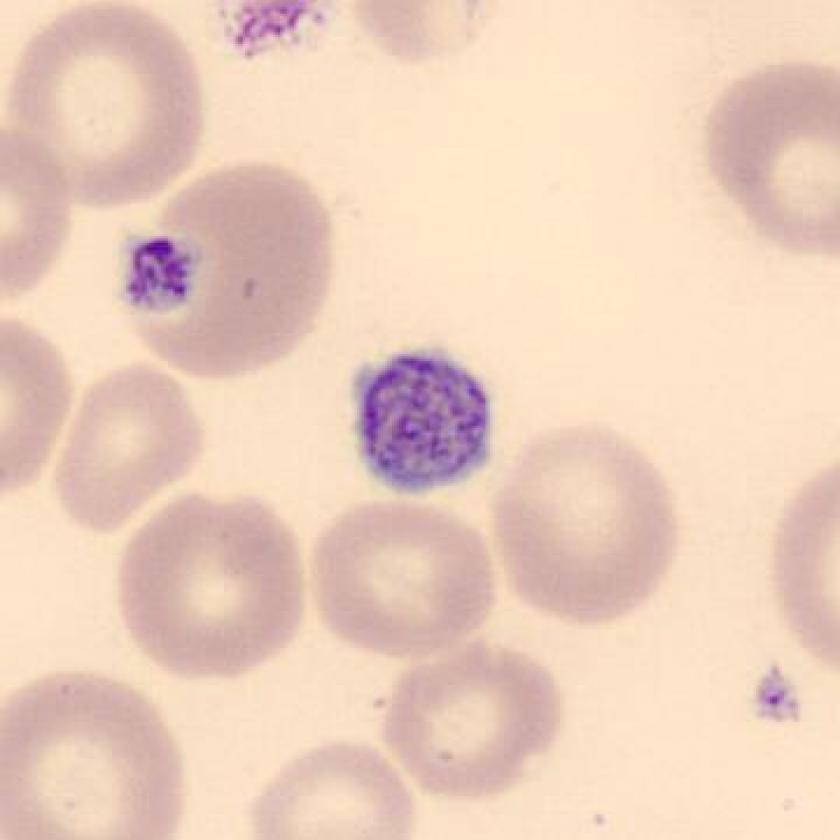platelets: (337, 337, 505, 510), (108, 214, 209, 332)
